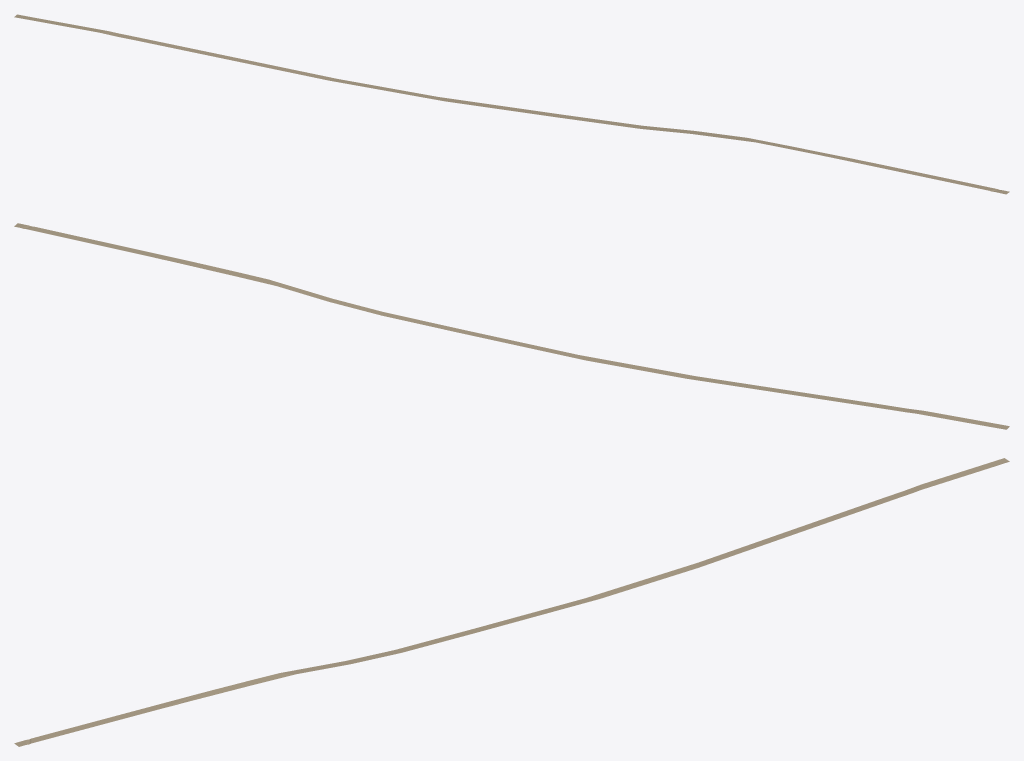
Rendered from farm_20_23_track.glb.
The picture shows the model from 3 angles, top to bottom: view 1: azimuth 30°, elevation 25°; view 2: azimuth 210°, elevation 25°; view 3: azimuth 270°, elevation 25°; orthographic projection. The views are drawn at different scales.
Visible parts, largest first — view 1: geometry_0; view 2: geometry_0; view 3: geometry_0.
Boxes of the visible parts, x1,y1,x2,y2 form: geometry_0: (14, 14, 1009, 194); geometry_0: (14, 223, 1009, 429); geometry_0: (14, 458, 1009, 746).
Size of the model in its own units: 257 by 8.88 by 357.
